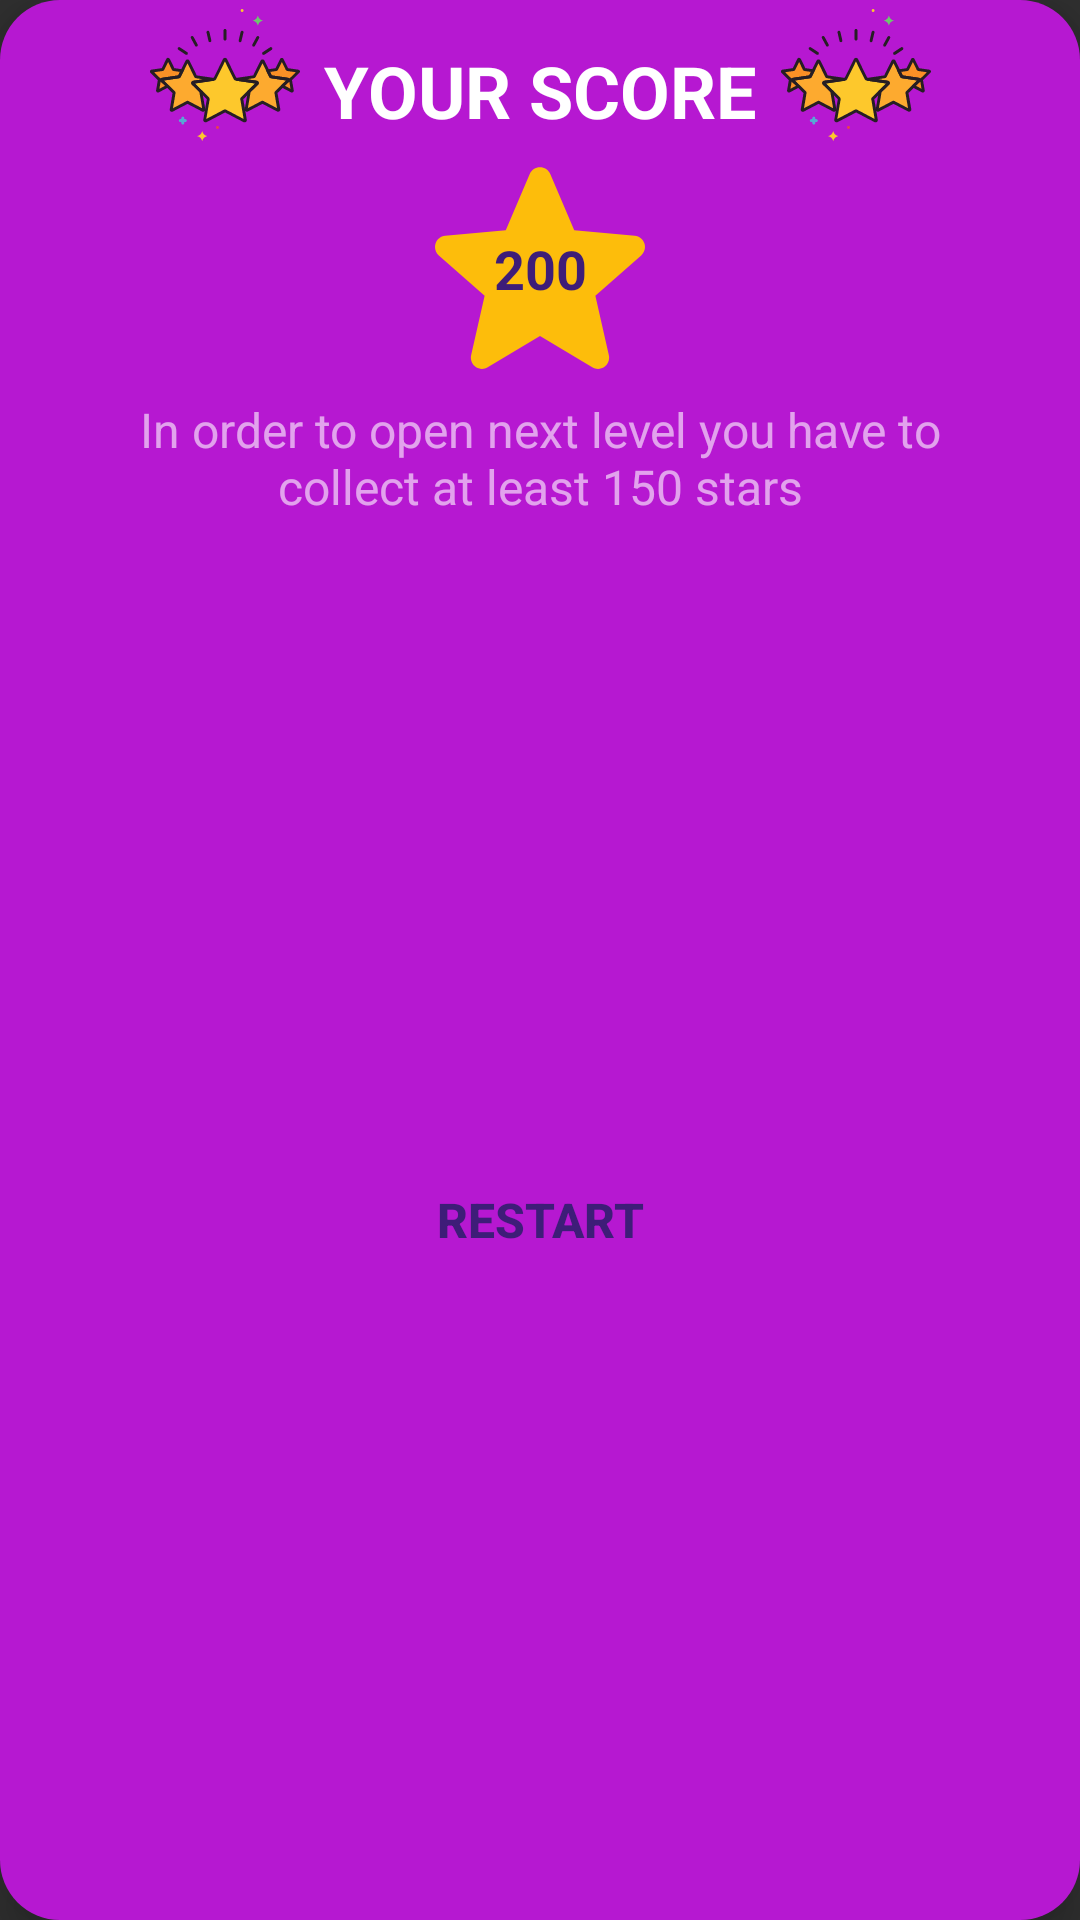

Point at icon controls on the screen. Image size 1080x1920, points as [x,y].
rating: [225,75], [856,75]
